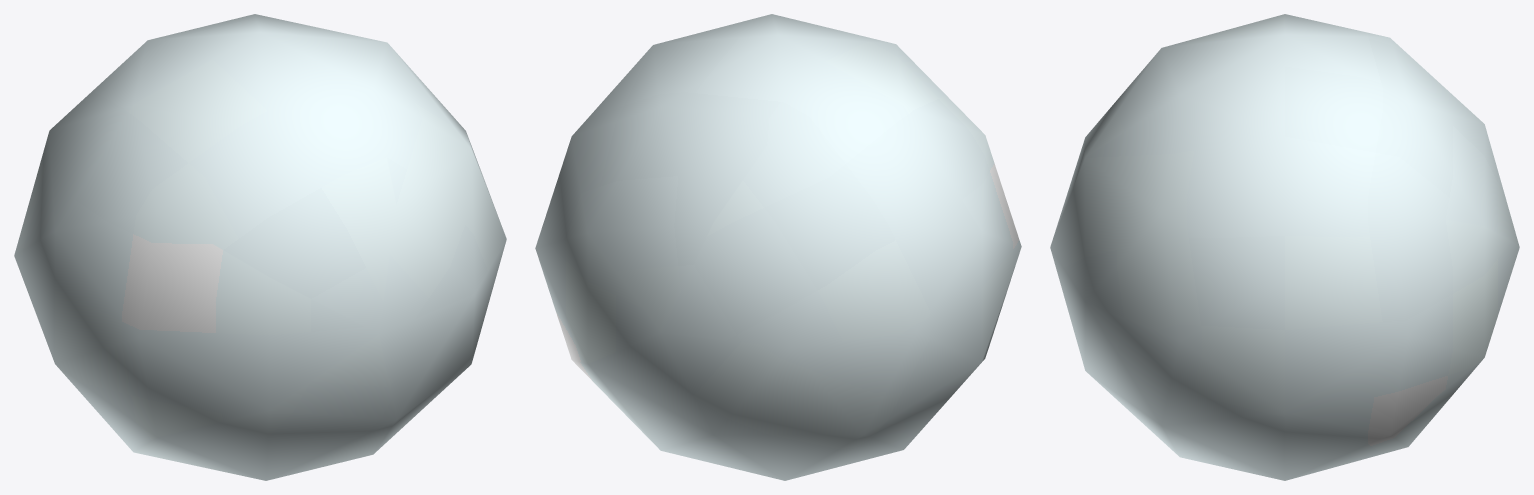
Rendered from snow-ball-bottom.glb.
3 views of the same model, side by side, from view 1: azimuth 30°, elevation 25°; view 2: azimuth 150°, elevation 25°; view 3: azimuth 270°, elevation 25° (orthographic).
Parts seen in each view (by area): view 1: snow-ball-bottom; view 2: snow-ball-bottom; view 3: snow-ball-bottom.
Boxes of the visible parts, bbox=[...] form: snow-ball-bottom: bbox=[14, 14, 506, 480]; snow-ball-bottom: bbox=[535, 14, 1021, 480]; snow-ball-bottom: bbox=[1050, 14, 1519, 480].
Bounding box in the file's own units: 1.5 × 1.5 × 1.5.
1 material, 1 textured.
